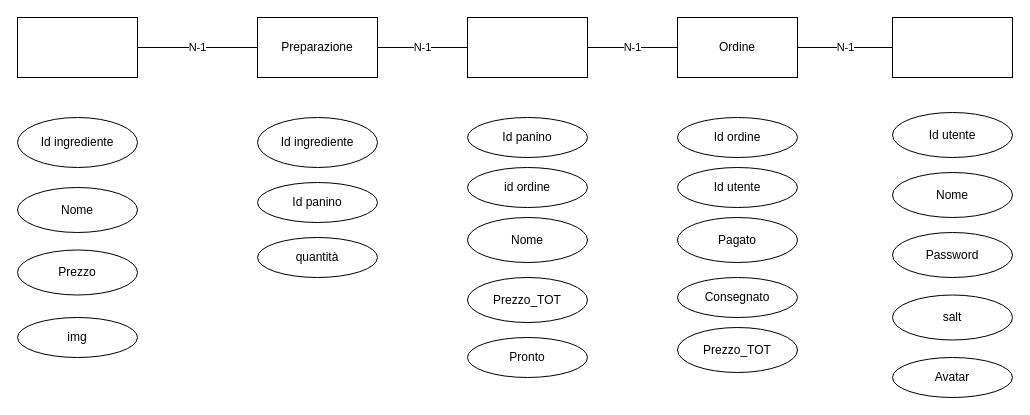
Image size: 1030x415. Some labels were removed from this diagram. The shapes that lost their labels are listed below. From the top down, each one's centre as x and y in pixels, then its label:
(x=77, y=47): Ingrediente
(x=527, y=47): Panino
(x=952, y=47): Utente
